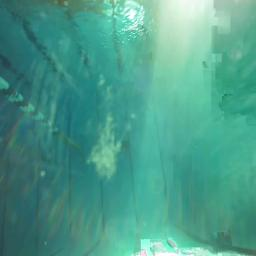front: (209, 228, 234, 251)
